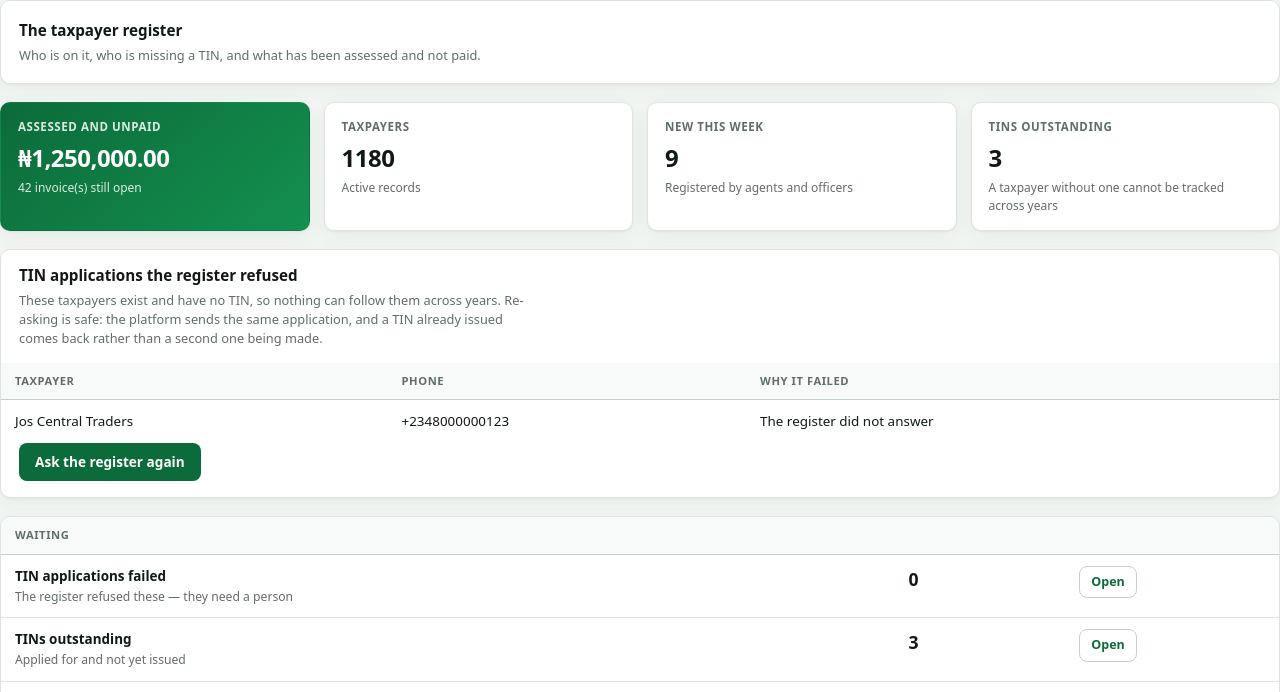
Test: an action button on the officer home screen › says so when it worked, so the officer is not left guessing
The image size is (1280, 692).
Click the button "Ask the register again".
click(110, 462)  # box x1=19 y1=443 x2=201 y2=481
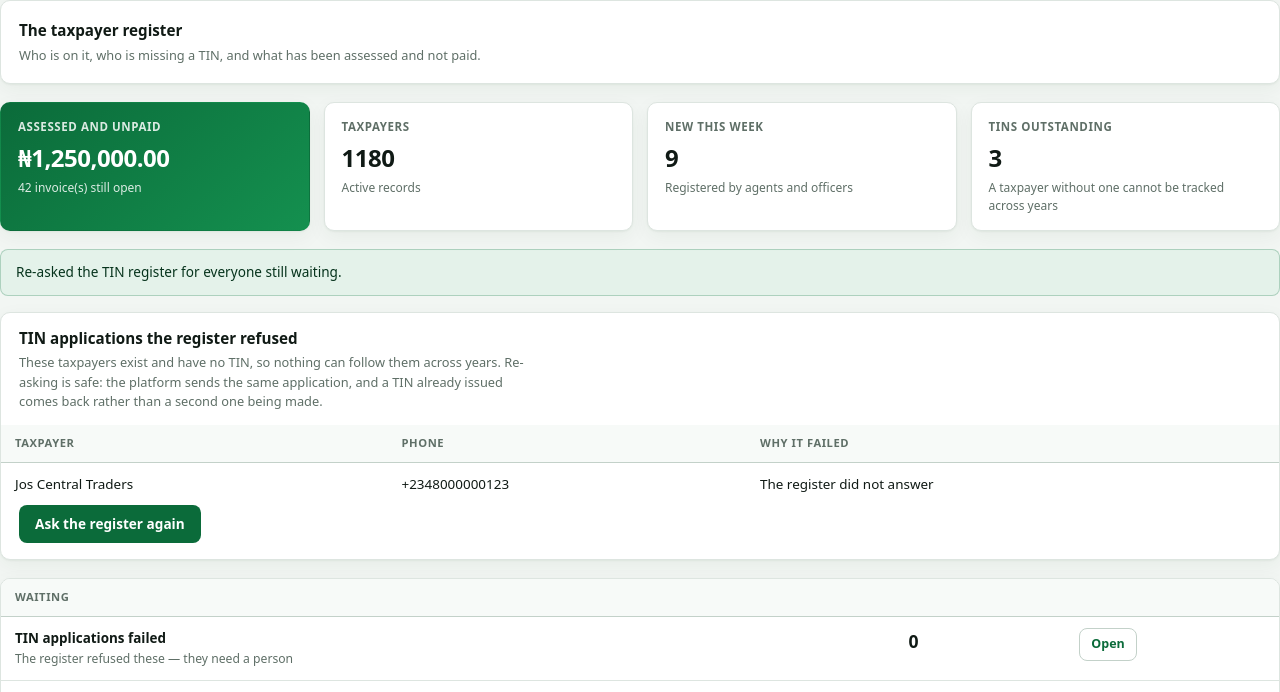
Check: the text "Re-asked the TIN register for everyone still waiting." is shown, box x1=16 y1=262 x2=342 y2=281
